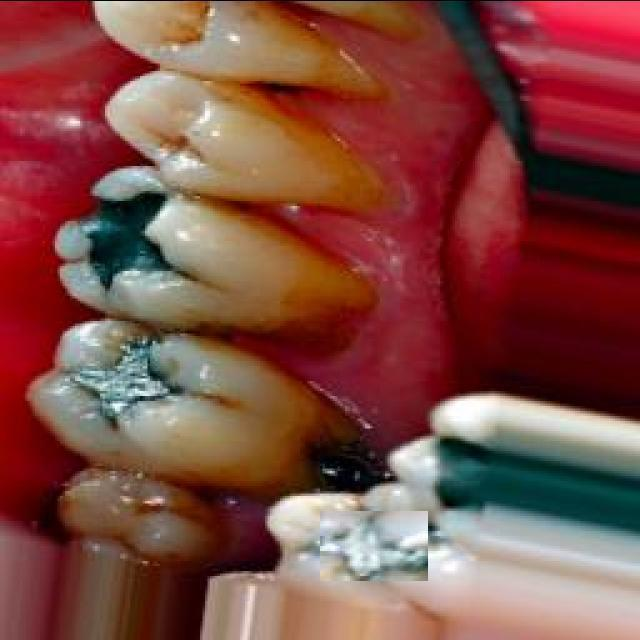caries: (442, 445, 640, 533), (78, 193, 178, 283), (75, 340, 170, 423), (320, 510, 428, 580)
